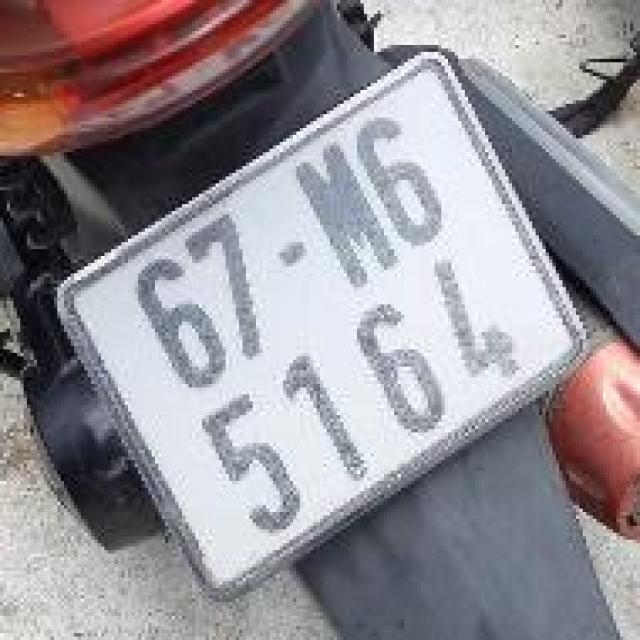1: (265, 339, 392, 499)
4: (415, 229, 548, 404)
5: (180, 379, 321, 552)
6: (117, 231, 238, 404), (337, 288, 461, 450), (345, 104, 461, 264)
7: (174, 208, 295, 373)
M: (277, 129, 410, 304)
